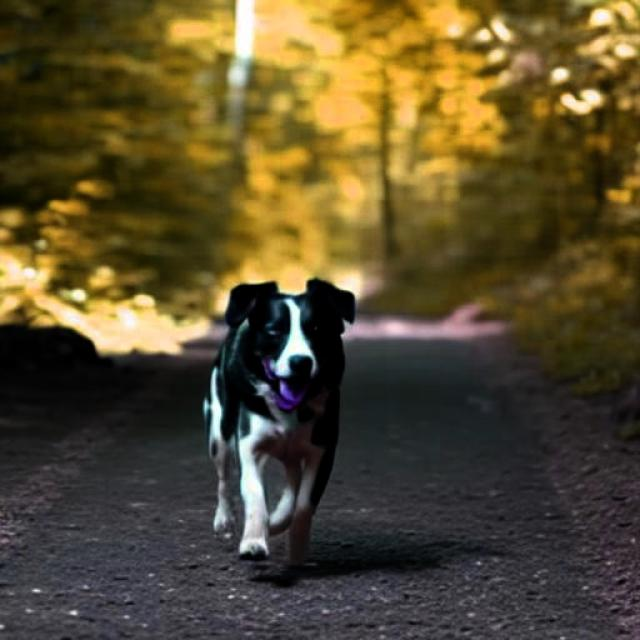Dog: (202, 278, 354, 562)
